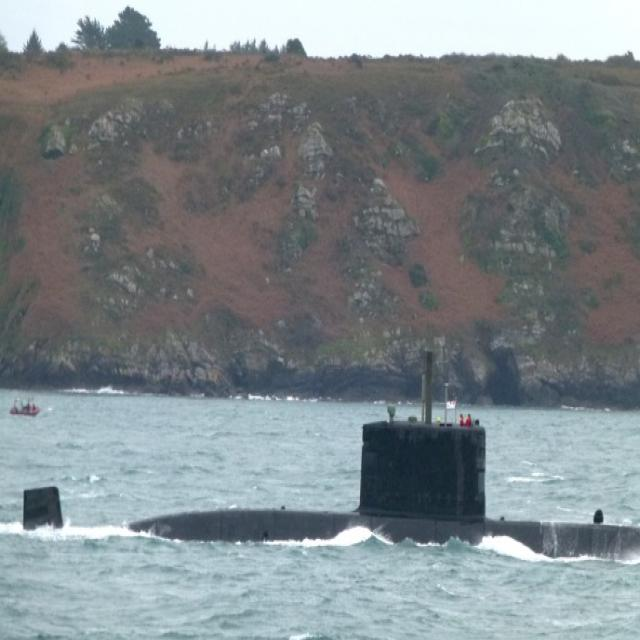submarine: (21, 414, 640, 560)
